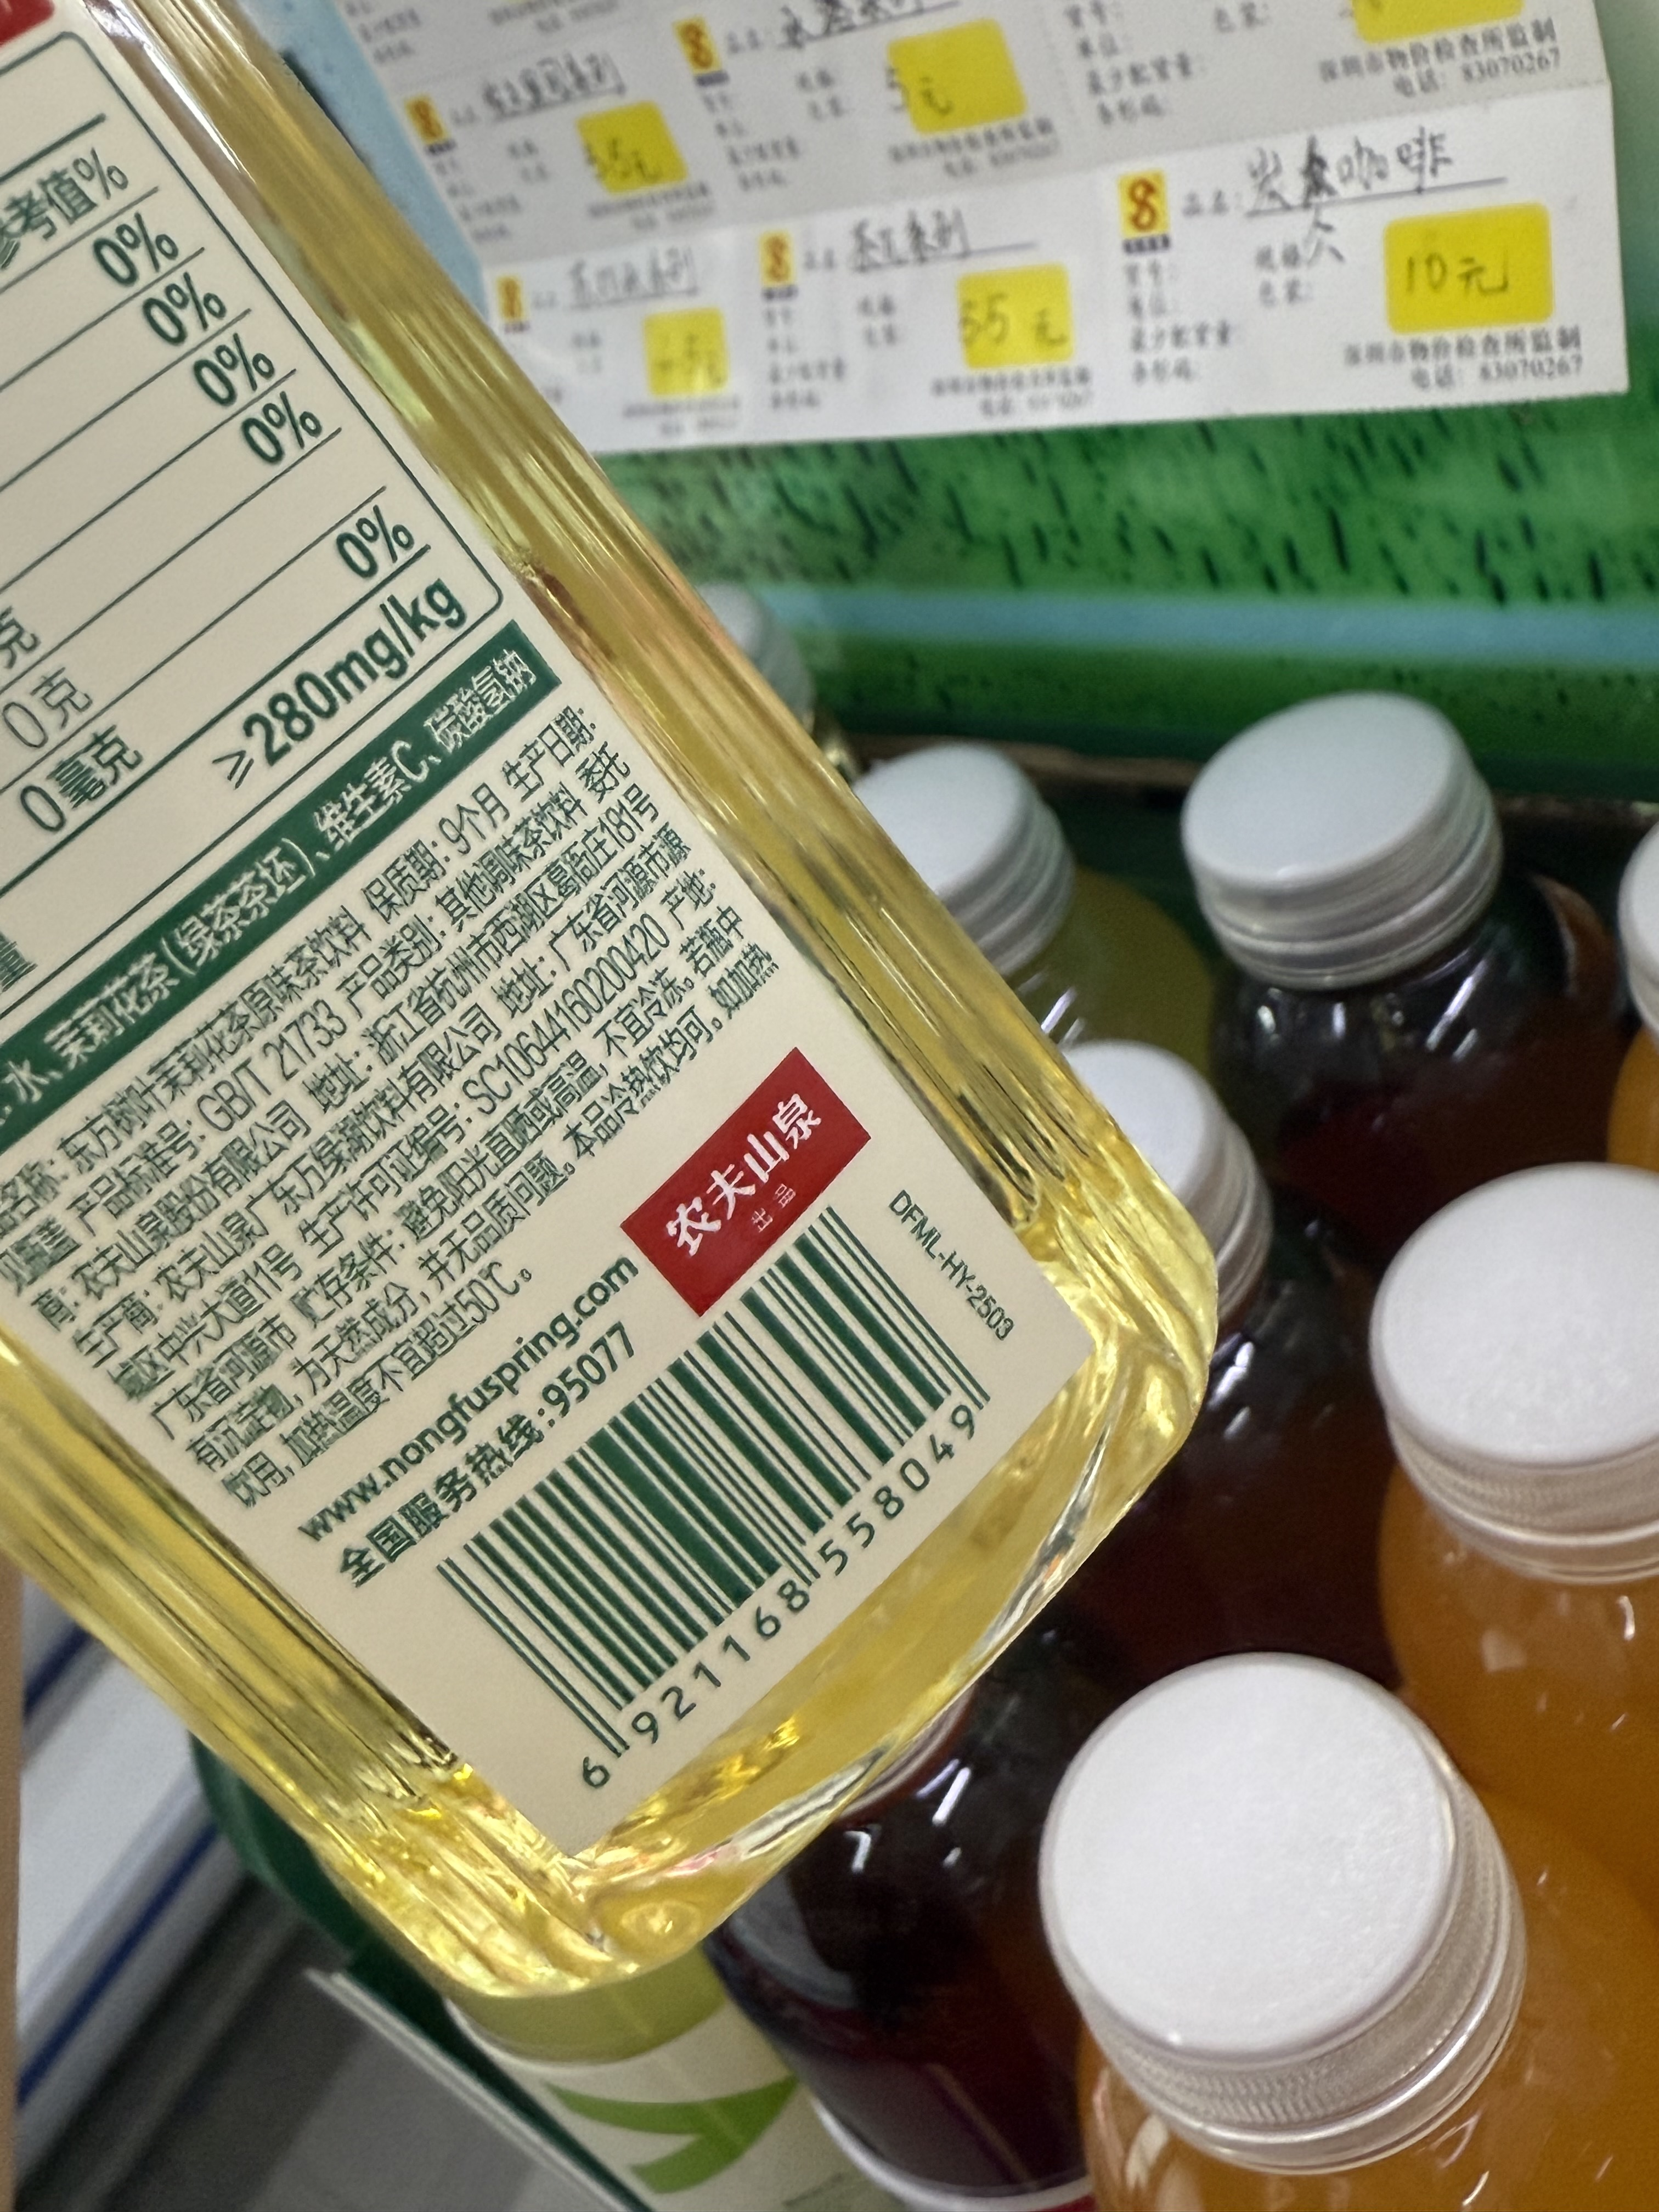bar: (429, 1198, 1004, 1768)
